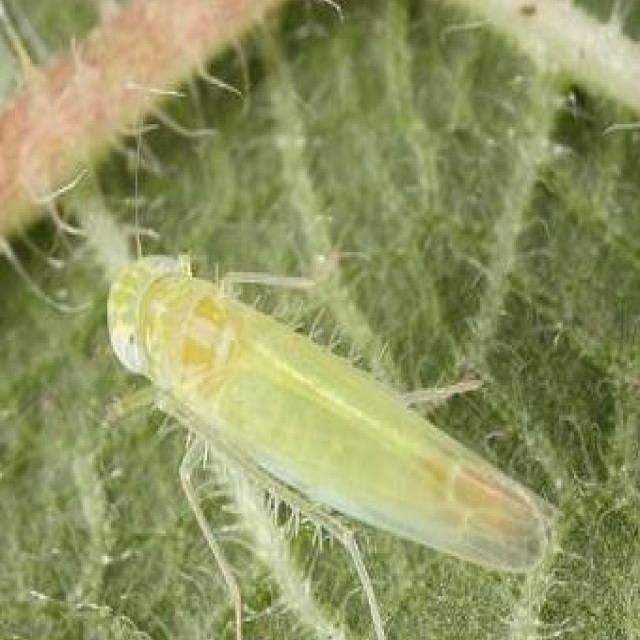Yechan: (90, 236, 568, 584)
